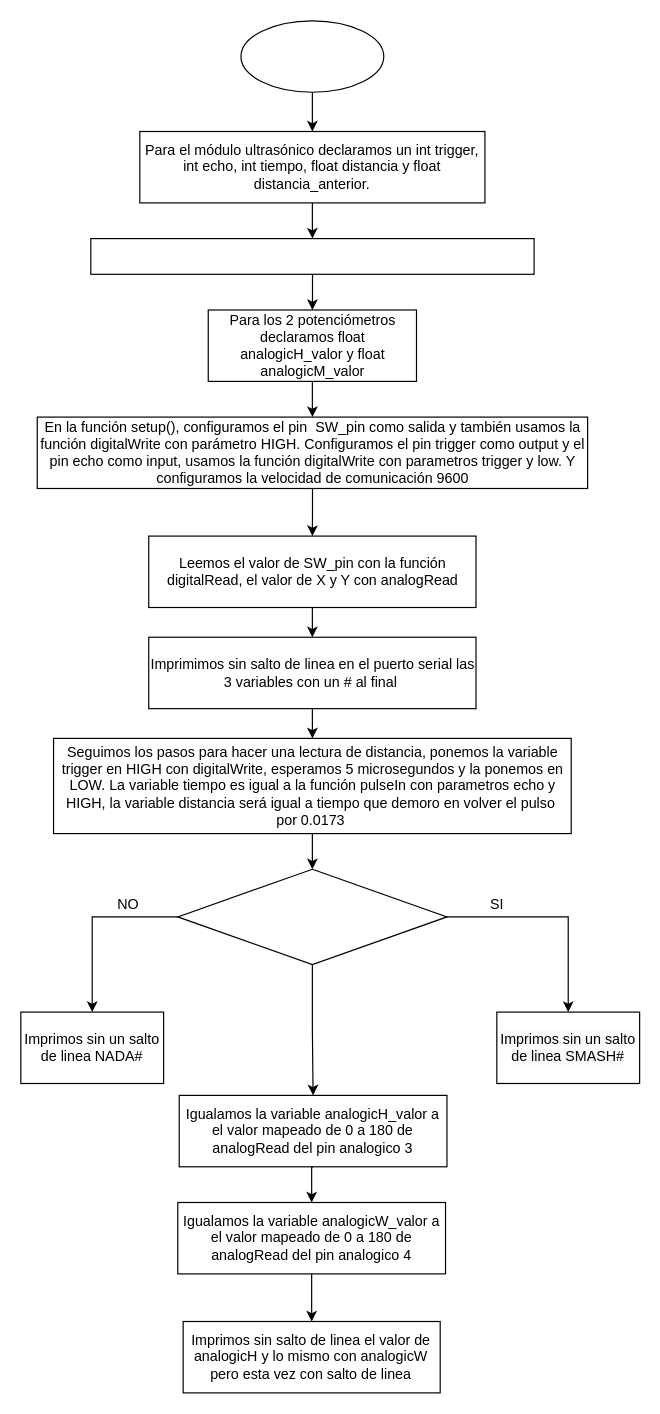
Image size: 660x1414. Some labels were removed from this diagram. The shapes that lost their labels are listed below. From the top down, each one's box as (x1, y1, x2, y2) in pixels, then its label:
(240, 20, 384, 92): INICIO
(90, 237, 534, 274): Para el joystick declaramos un int SW_pin = 2, X_pin = 0 y Y_pin = 1
(177, 868, 447, 964): distancia < 15 && distancia > 0
